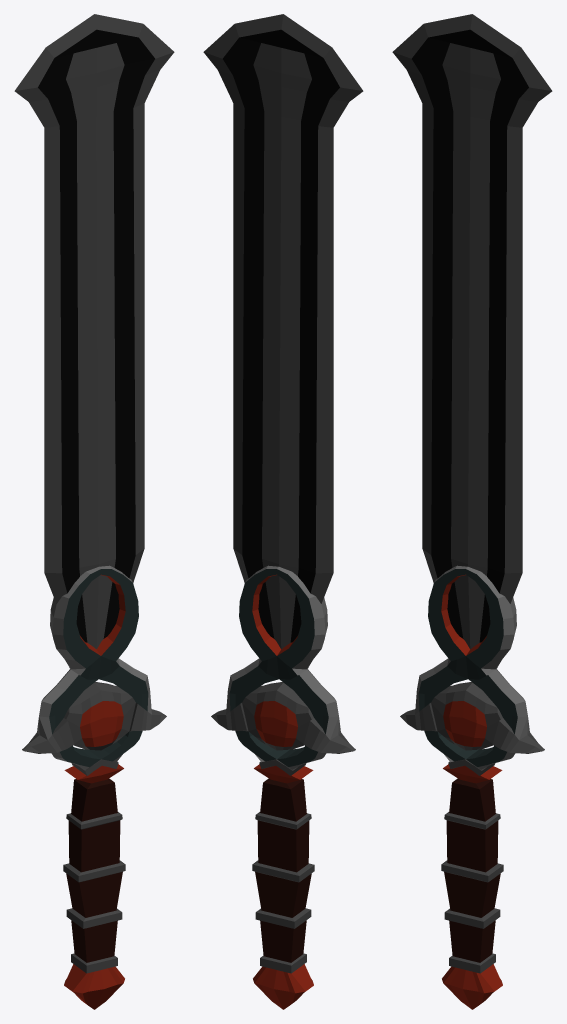
The model's file is Sword_03.fbx.
The picture shows the model from 3 angles, left to right: view 1: azimuth 30°, elevation 25°; view 2: azimuth 150°, elevation 25°; view 3: azimuth 330°, elevation 25°; orthographic projection.
Visible parts, largest first — view 1: Sword.002, Handle.004; view 2: Sword.002, Handle.004; view 3: Sword.002, Handle.004.
Part boxes in pixels (bbox=[...]): Sword.002: bbox=[14, 14, 174, 649]; Handle.004: bbox=[22, 565, 166, 1009]; Sword.002: bbox=[203, 14, 363, 649]; Handle.004: bbox=[211, 565, 355, 1009]; Sword.002: bbox=[392, 14, 552, 649]; Handle.004: bbox=[400, 565, 544, 1009].
Bounding box in the file's own units: 21.4 × 127 × 4.49.
